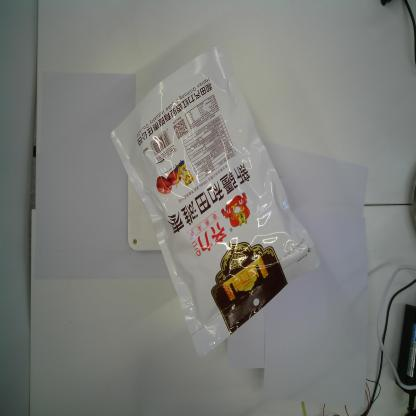Dried Food: (108, 43, 323, 360)
